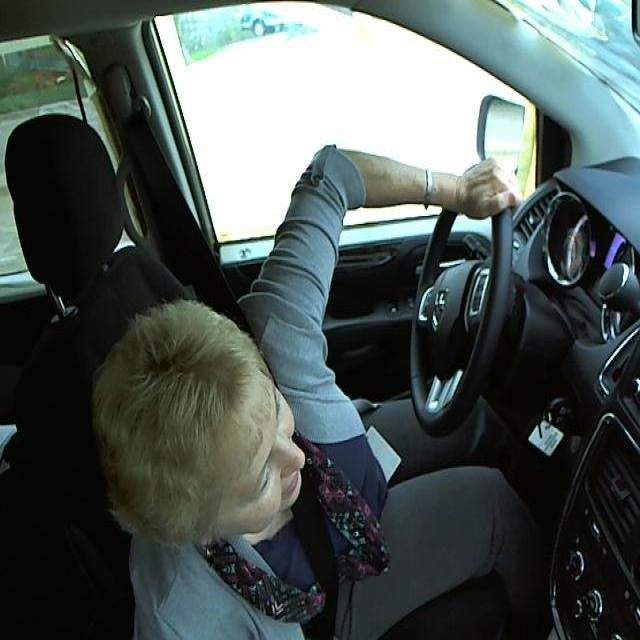seatbelt: (124, 92, 233, 308)
